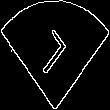L_SW: (35, 26, 75, 84)
